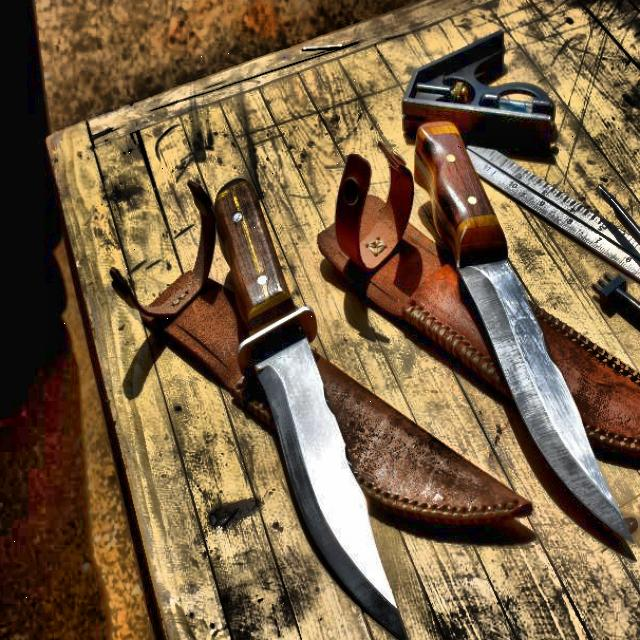knife: (402, 109, 637, 582), (214, 159, 416, 640)
